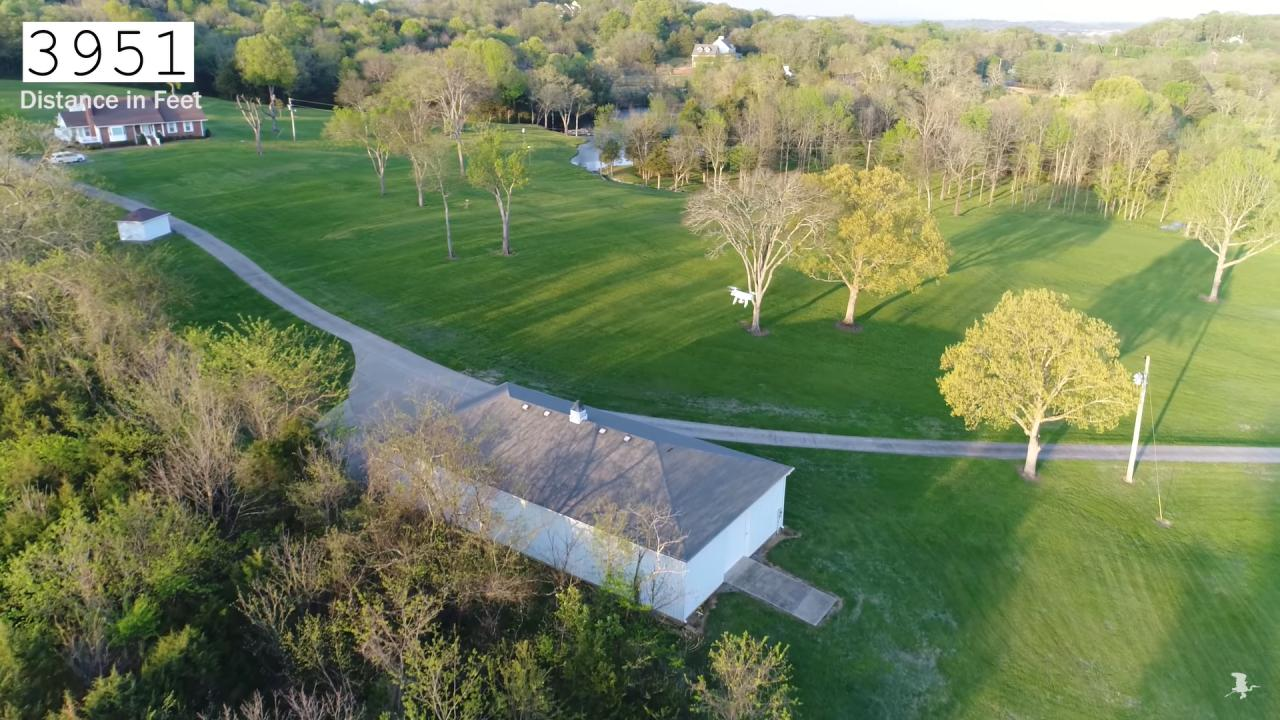Drone: (718, 278, 766, 317)
